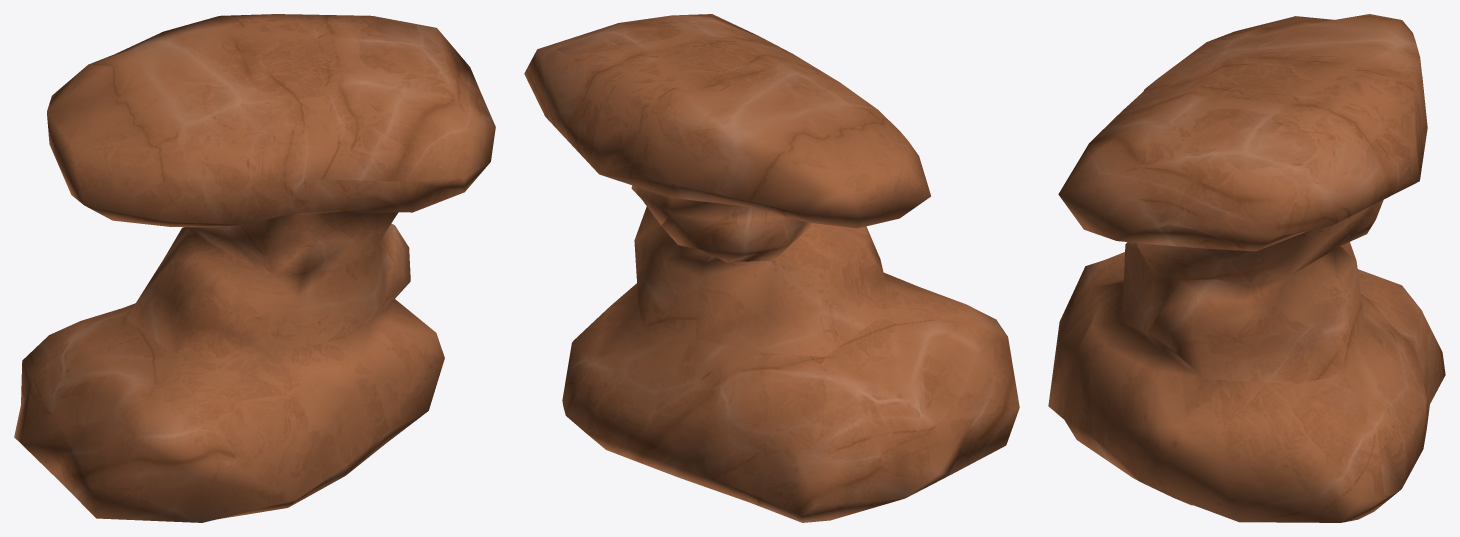
Rendered from ENV2110042.fbx.
The picture shows the model from 3 angles, left to right: view 1: azimuth 30°, elevation 25°; view 2: azimuth 150°, elevation 25°; view 3: azimuth 270°, elevation 25°; orthographic projection. The views are drawn at different scales.
Parts seen in each view (by area): view 1: smENV2110042; view 2: smENV2110042; view 3: smENV2110042.
Boxes of the visible parts, x1,y1,x2,y2 form: smENV2110042: (14, 14, 495, 522); smENV2110042: (524, 14, 1019, 522); smENV2110042: (1048, 14, 1445, 522).
Bounding box in the file's own units: 203 × 166 × 146.
1 material, 1 textured.
